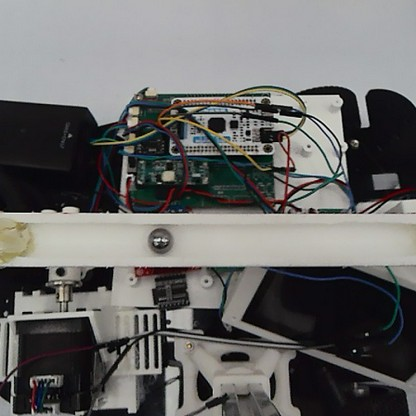ironball: (146, 225, 174, 254)
